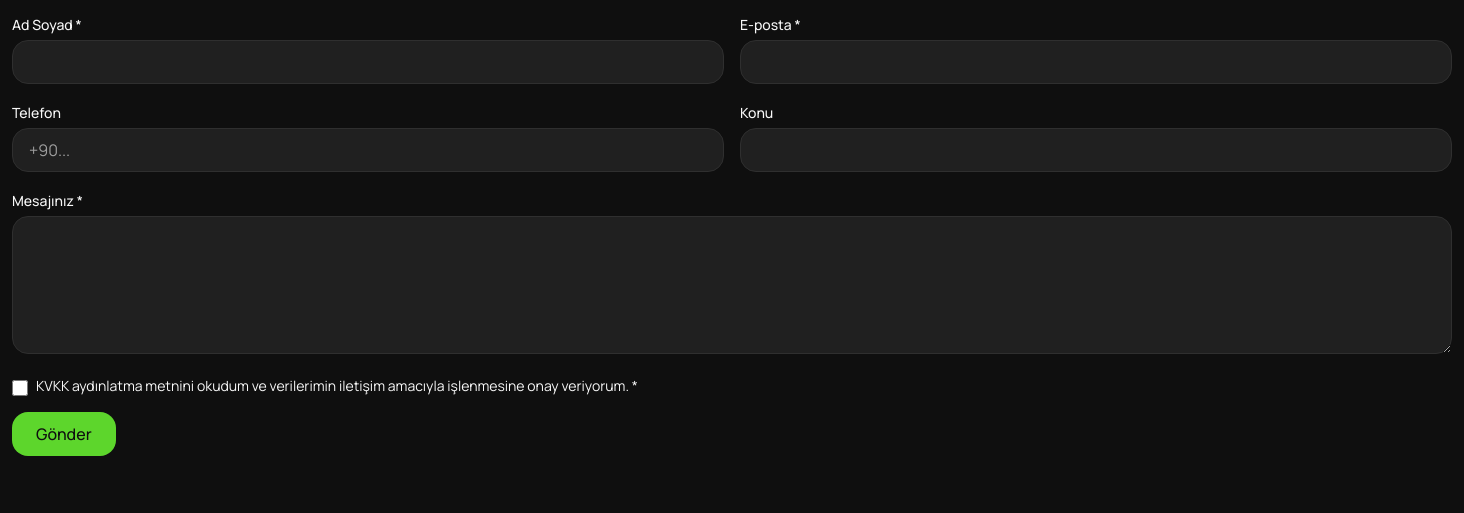
Scenario: ContactForm › shows error when KVKK is not accepted
Type "Ahmet" into the field labelled "Ad Soyad *" at x=368, y=62, box x1=12 y1=40 x2=724 y2=84
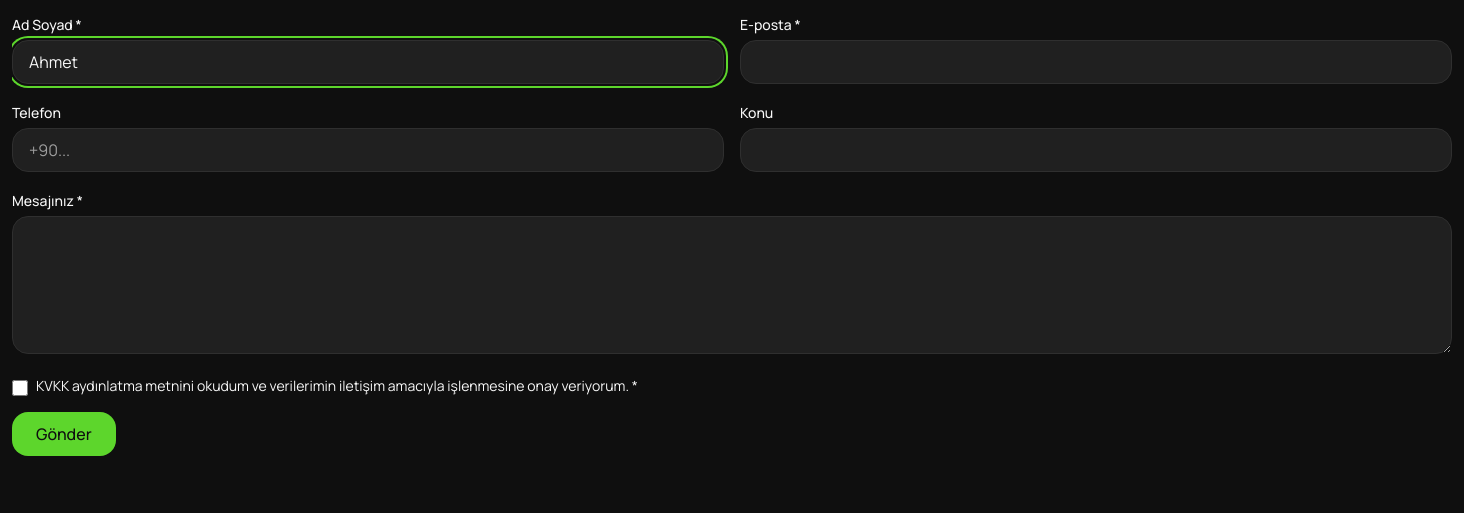
Type "a@b.com" into the field labelled "E-posta *" at x=1096, y=62, box x1=740 y1=40 x2=1452 y2=84
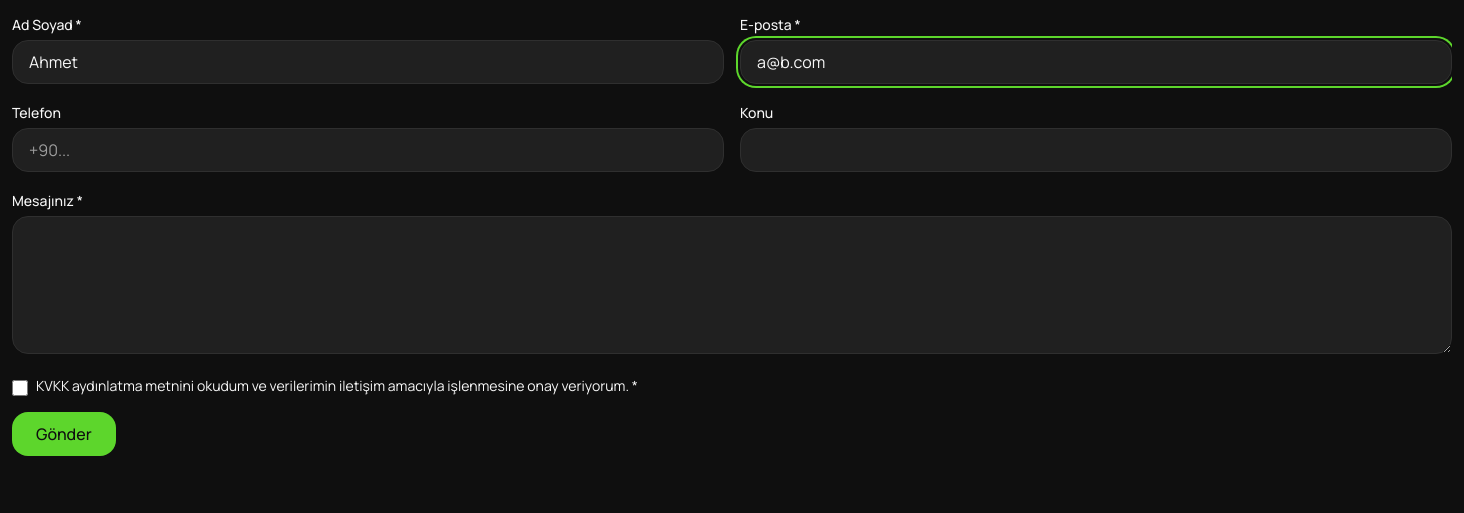
Type "Bu en az on karakter mesaj." into the text box labelled "Mesajınız *" at x=732, y=285, box x1=12 y1=216 x2=1452 y2=354
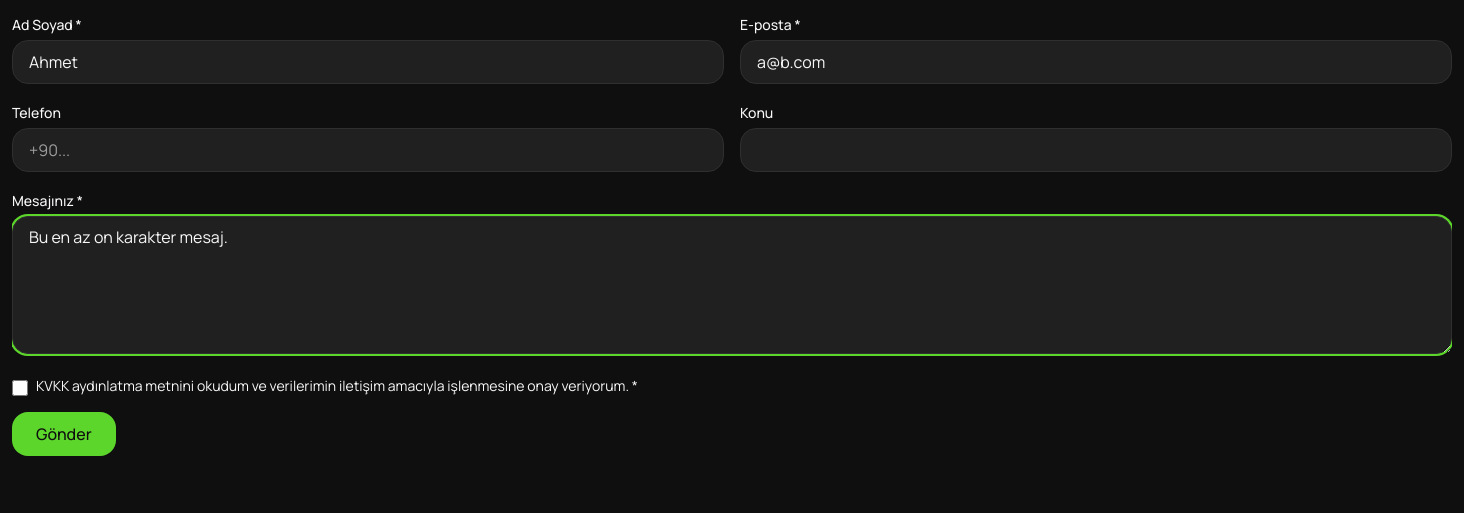
Click the button "Gönder" at x=64, y=434, box x1=12 y1=412 x2=116 y2=456
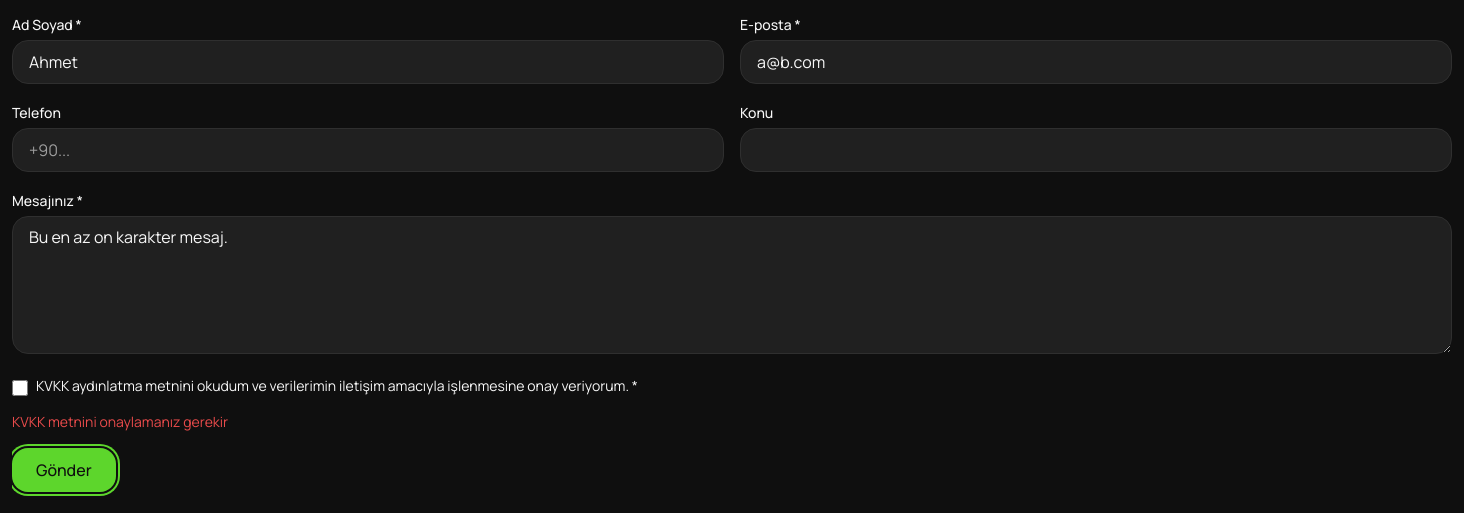
Check: the text "KVKK metnini onaylamanız gerekir" is shown, box x1=12 y1=412 x2=228 y2=431
